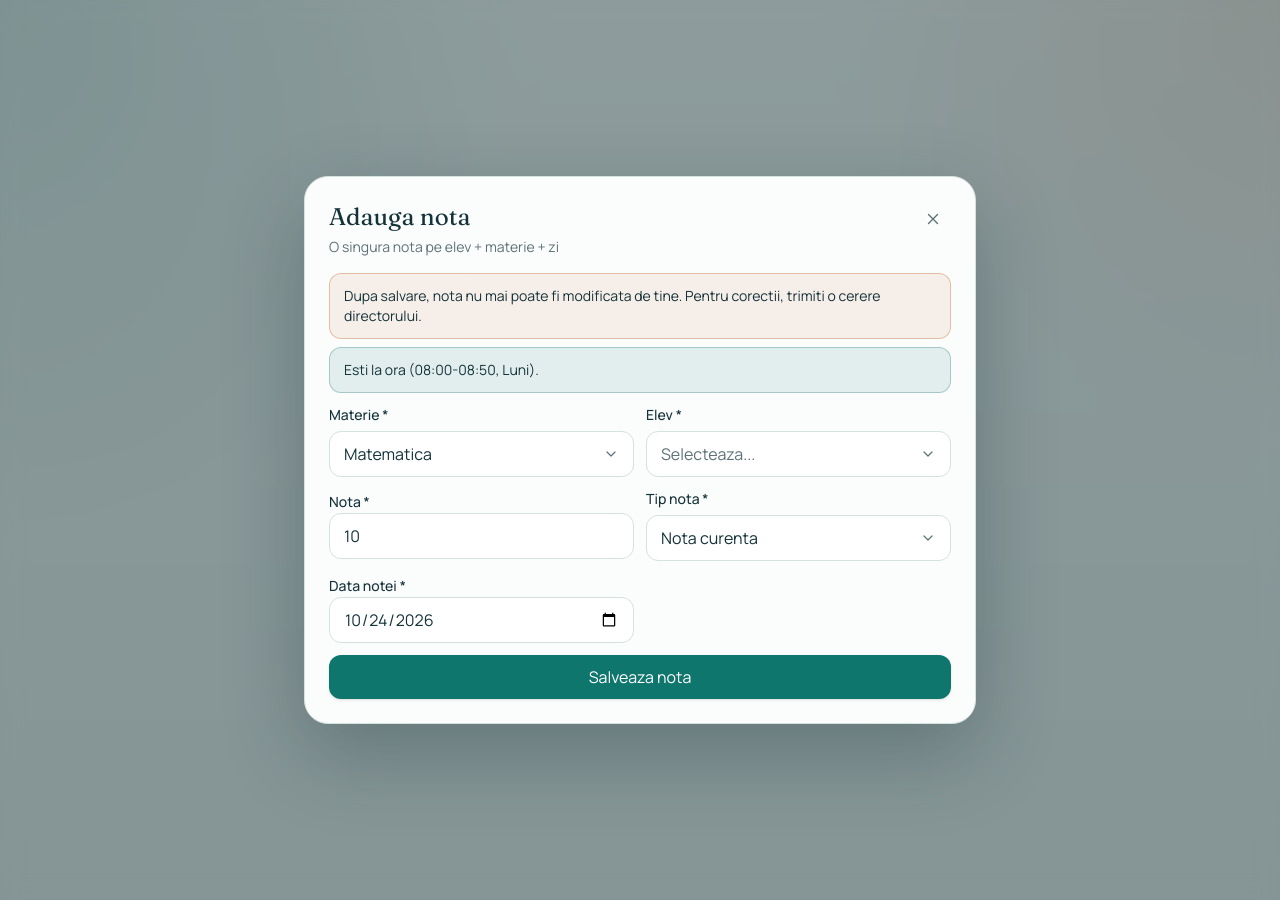
Scenario: GradeFormModal › saves a thesis with a decimal value
Check: the text "Esti la ora (08:00-08:50, Luni)." is shown, box [329,347,951,393]
Click the button "Selecteaza..." at (708, 454), box [646,431,951,477]
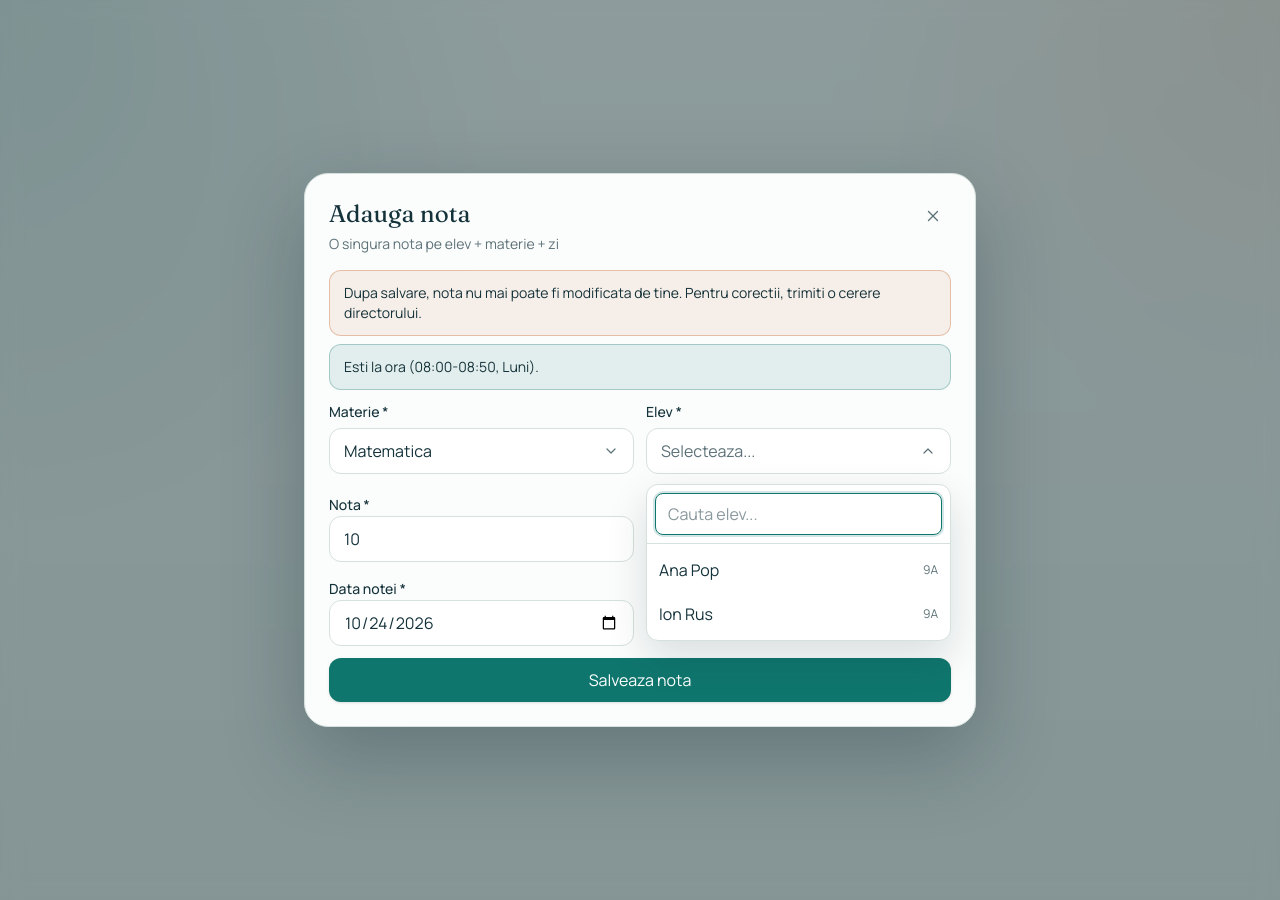
Click the option "Ana Pop 9A" at (689, 570), box [647,548,950,592]
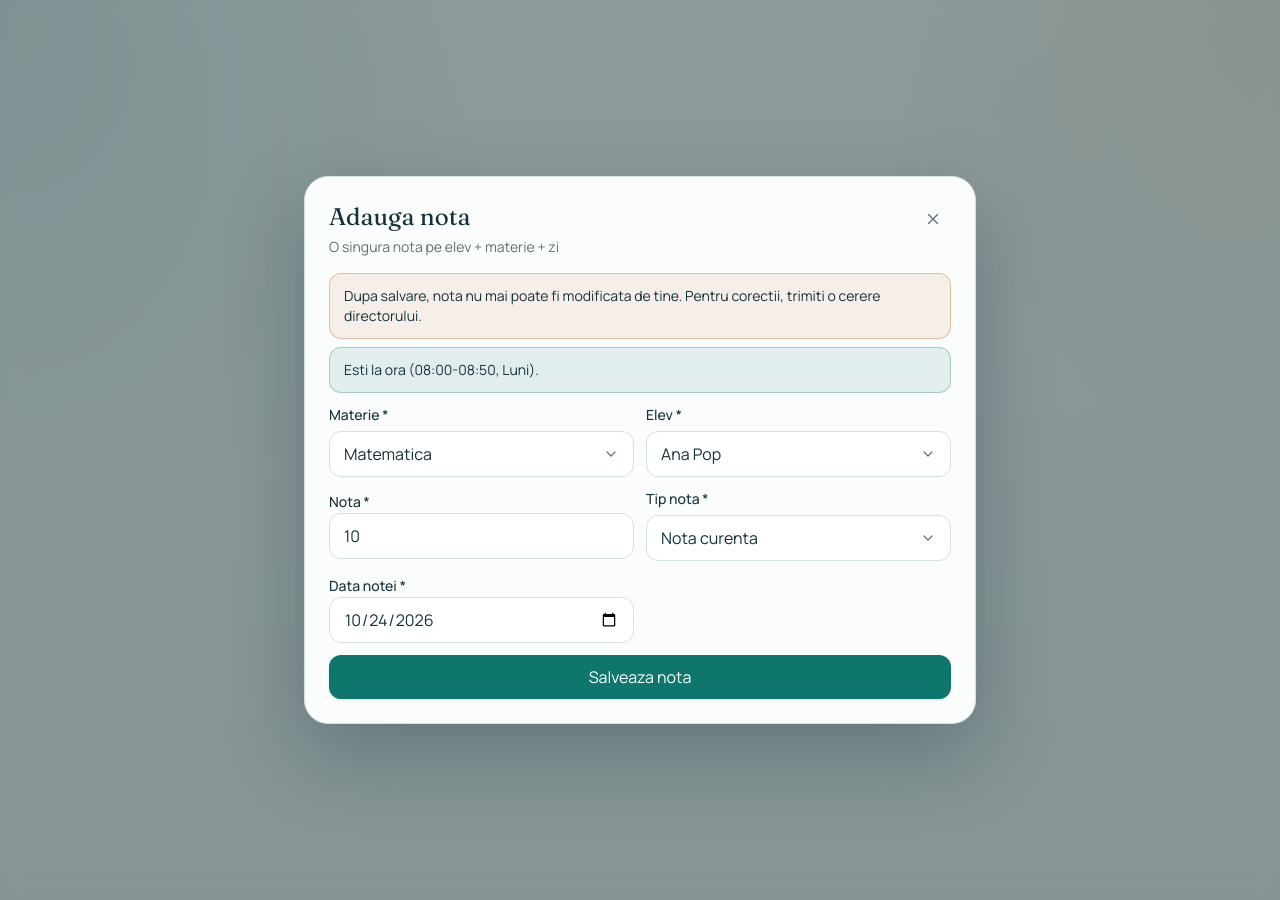
Replace the text in the number field labelled "Nota *" with "7.5" at (482, 536), box [329,513,634,559]
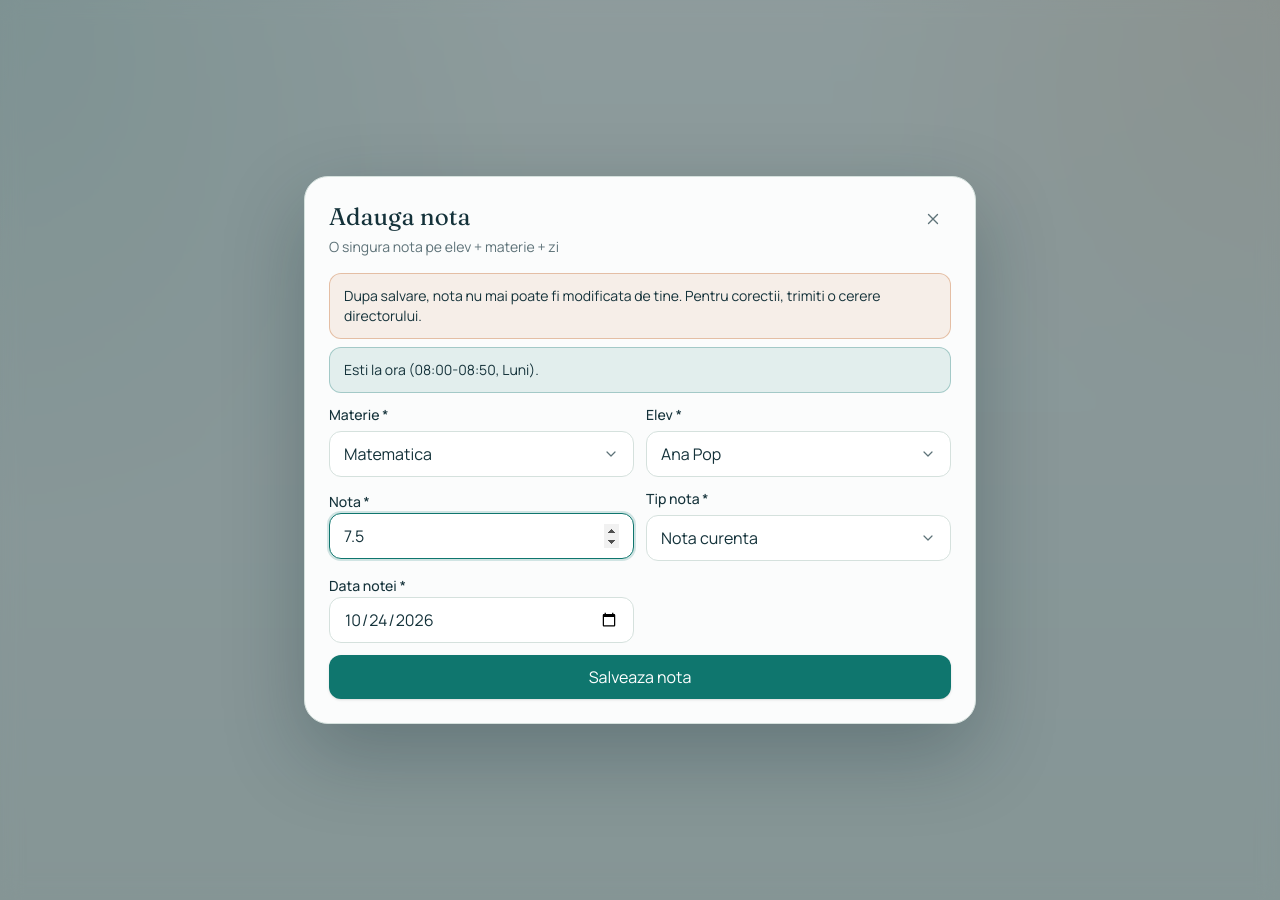
Click the button "Nota curenta" at (709, 538), box [646,515,951,561]
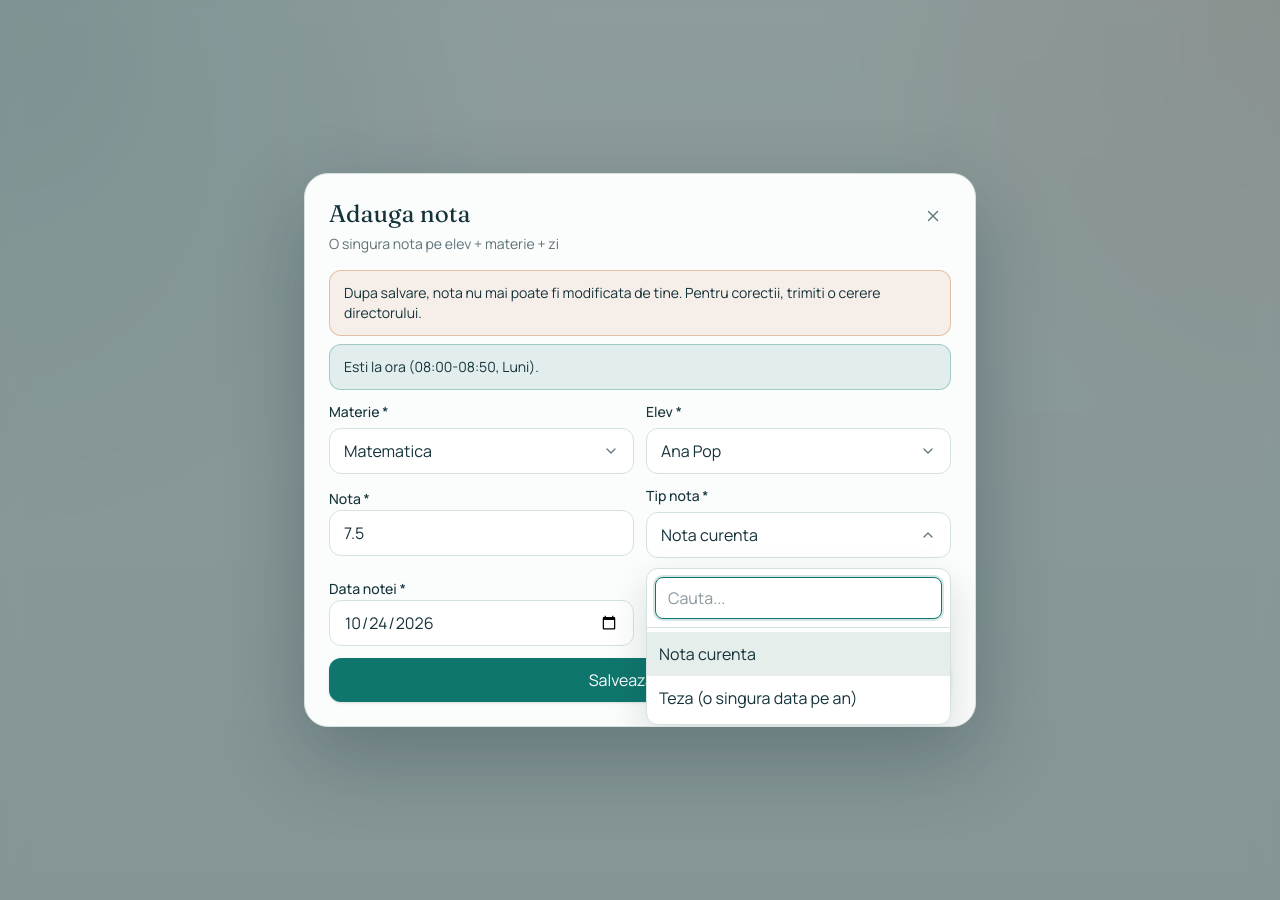
Click the option "Teza (o singura data pe an)" at (798, 698), box [647,676,950,720]
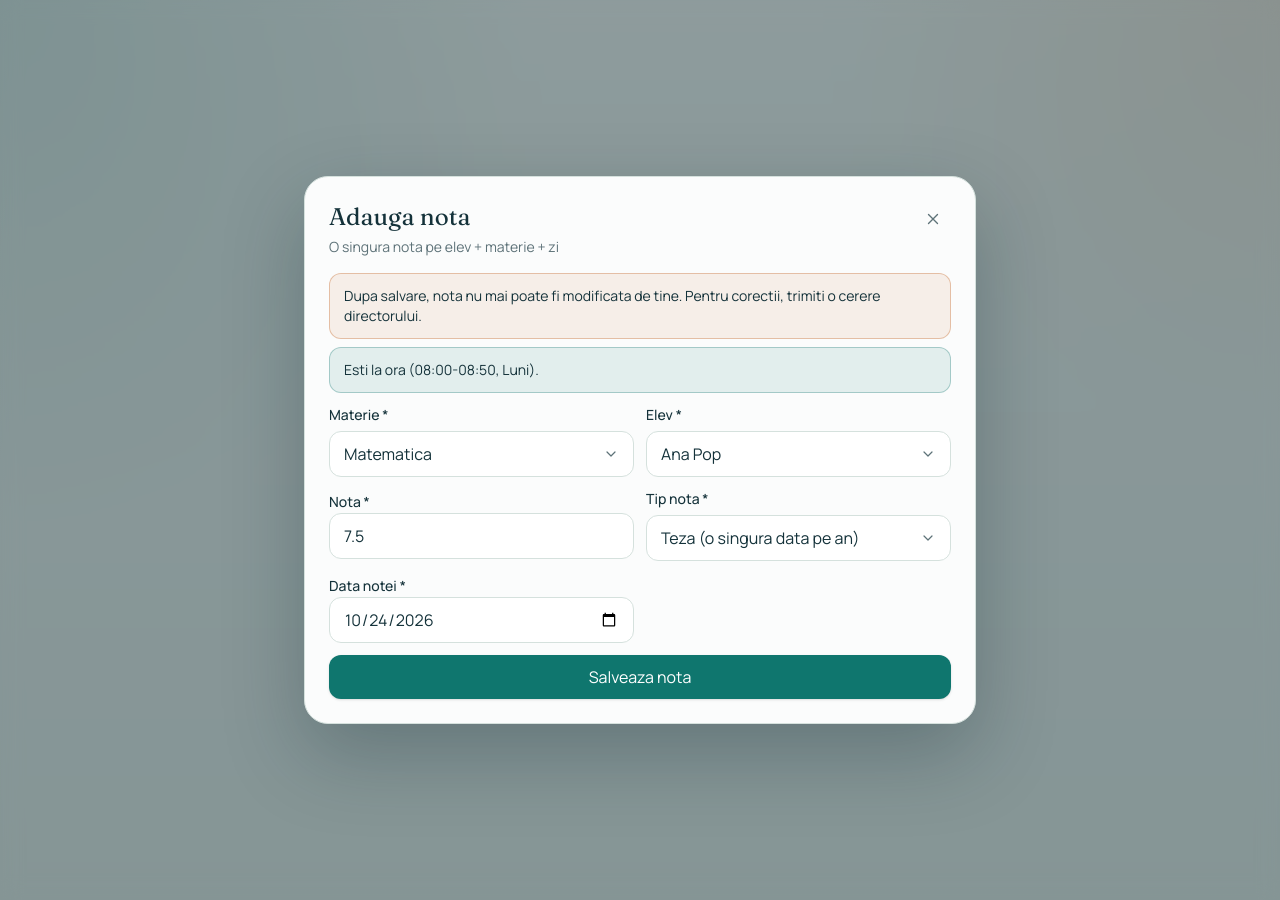
Click the button "Salveaza nota" at (640, 677), box [329,655,951,699]
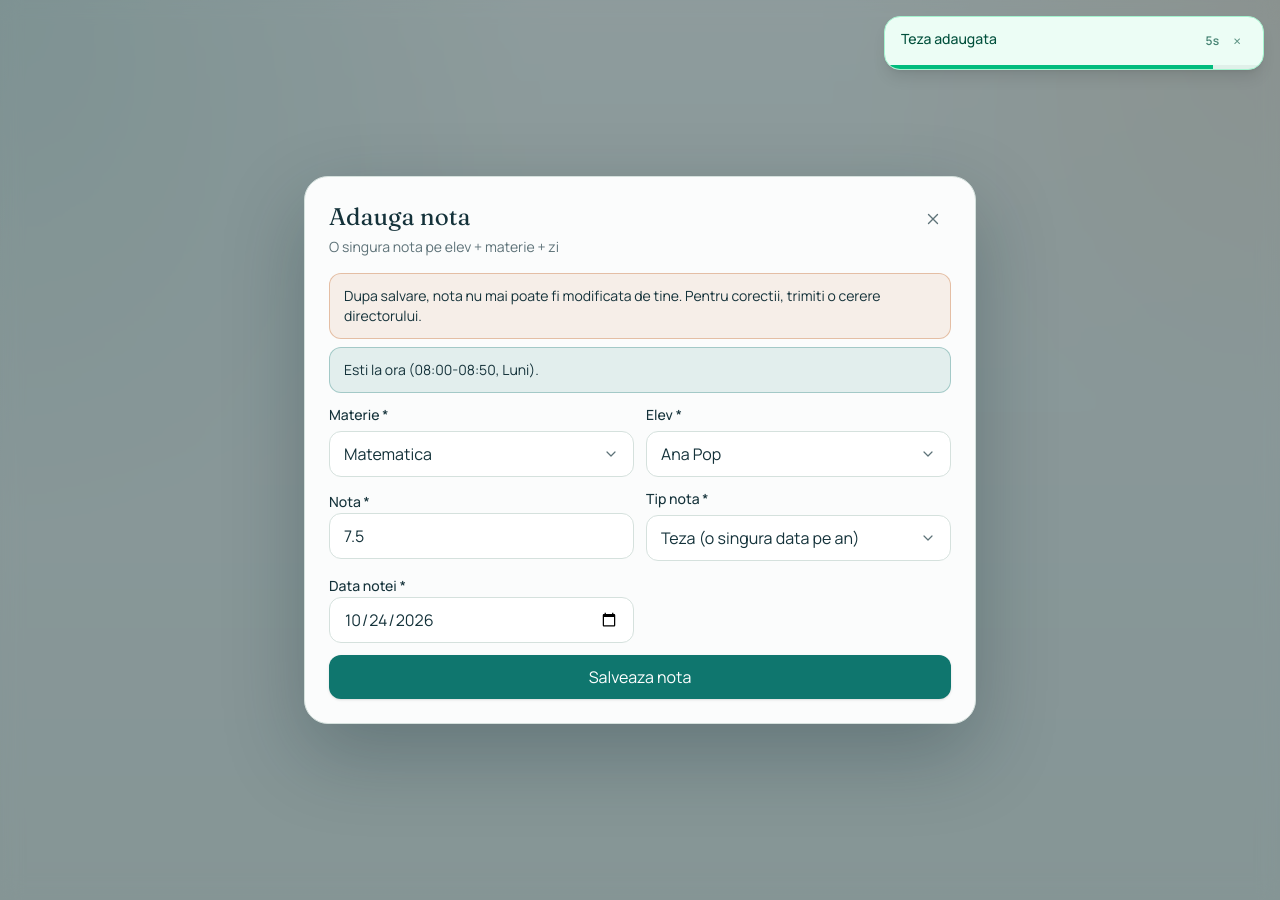
Check: the text "Teza adaugata" is shown, box [901,29,997,48]
